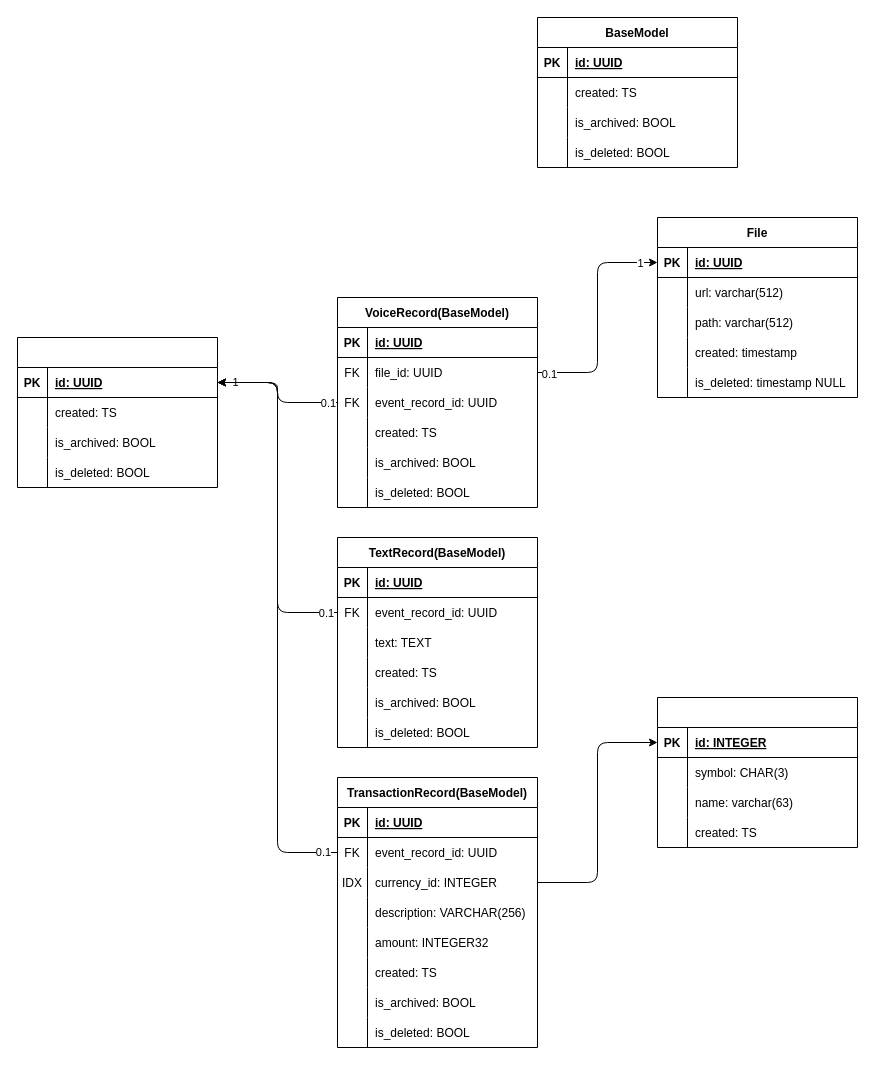
Image size: 875x1065. Some labels were removed from this diagram. The box of each missing label's shape, as (x1, y1, x2, y2) in pixels:
Currency: (656, 696, 858, 848)
Record: (16, 336, 218, 488)
